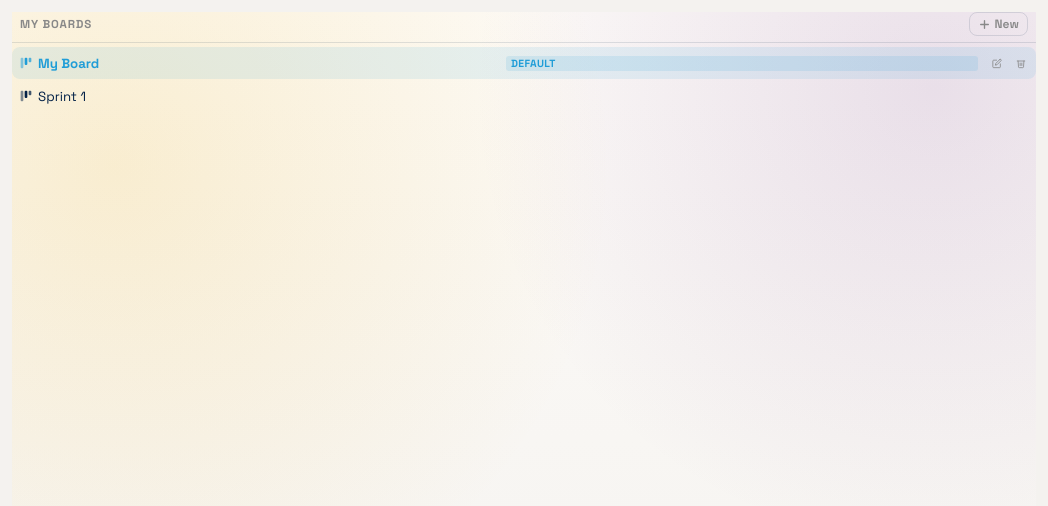
Scenario: BoardSelector › opens create form when New button clicked
Click the button with aria-label "create new board".
click(998, 24)  # box [969,12,1028,36]
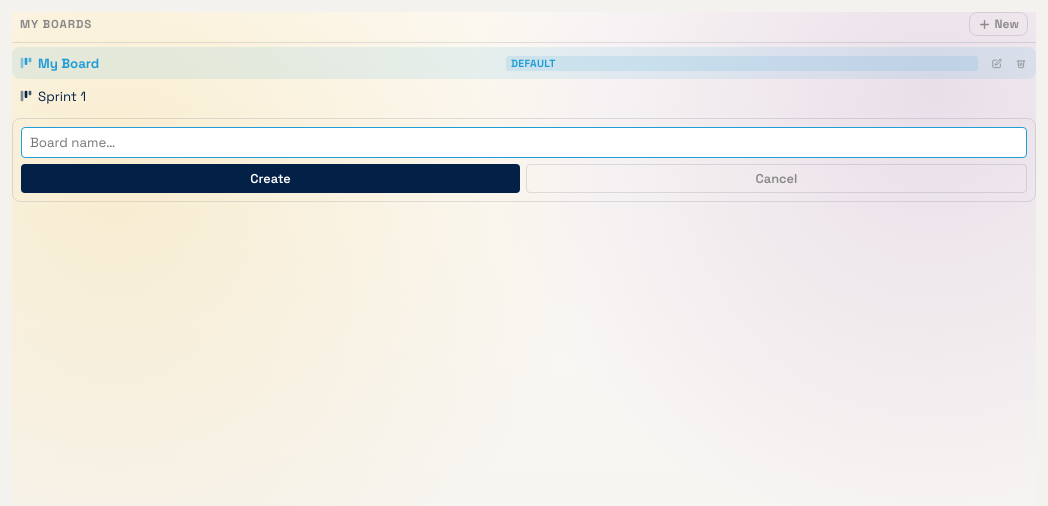
expect the field with placeholder "Board name…" is shown: met, box [21,127,1027,158]
